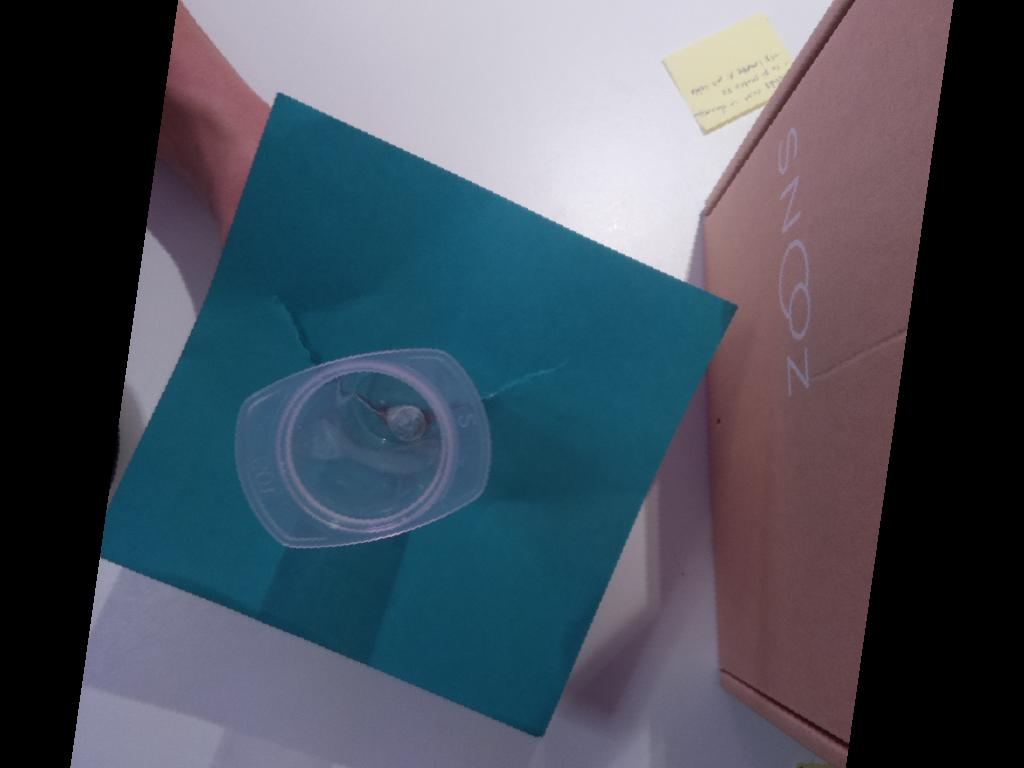clean: (233, 347, 492, 550)
